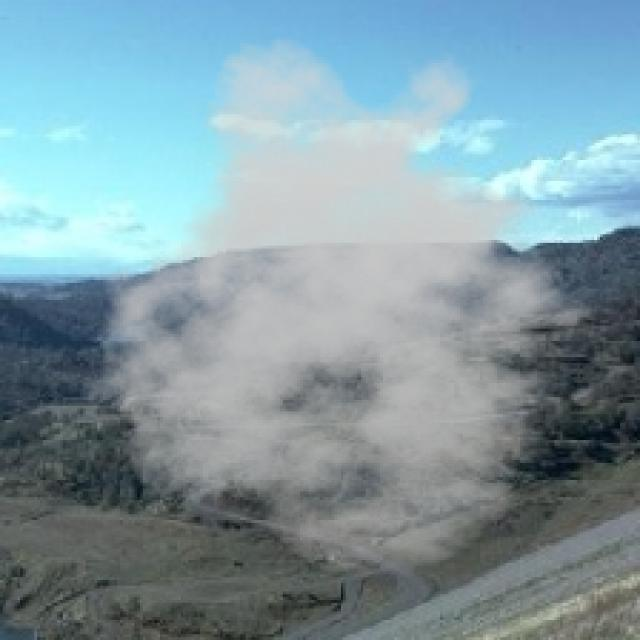smoke: (68, 34, 623, 574)
